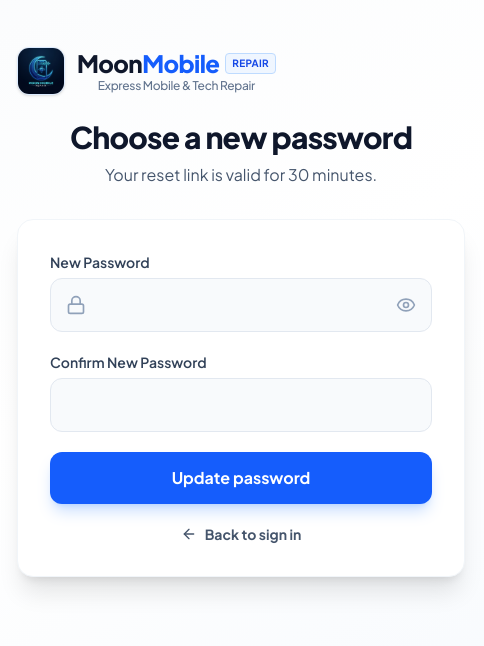
Scenario: ResetPasswordPage › warns when the token is missing
Step 1. Type "StrongPass1" into the password field labelled "New Password" → (241,305), box top-left (50, 278), bottom-right (432, 332)
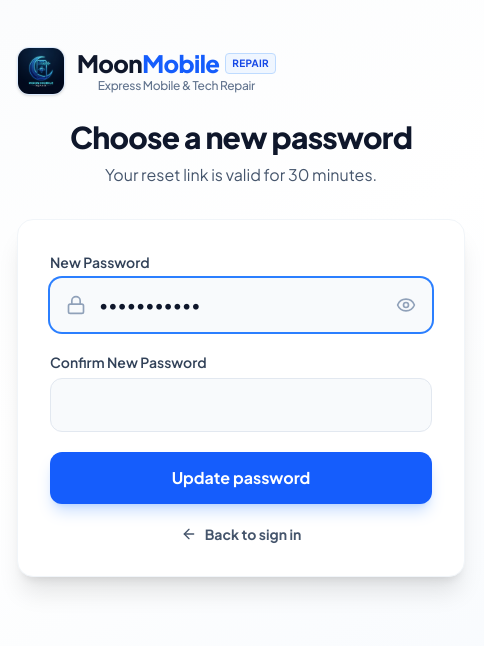
Step 2. Type "StrongPass1" into the password field labelled "Confirm New Password" → (241,405), box top-left (50, 378), bottom-right (432, 432)
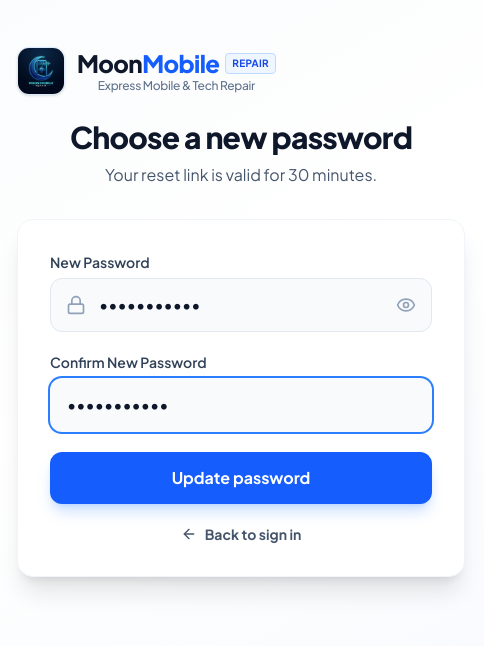
Step 3. Click the button "Update password" → (241,478), box top-left (50, 452), bottom-right (432, 504)
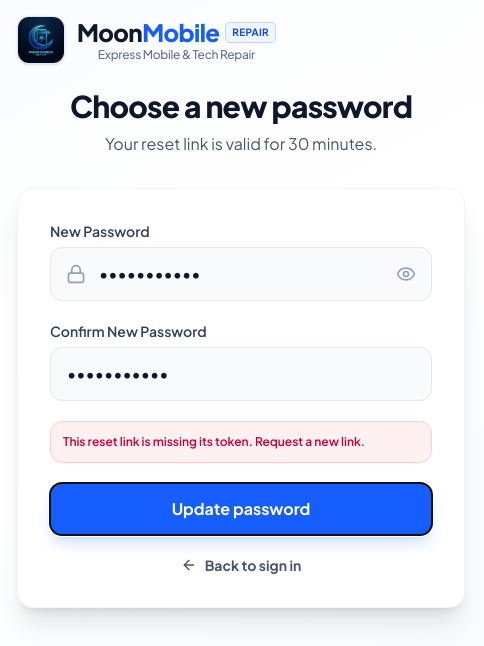
Result: the text "This reset link is missing its token. Request a new link." is shown at top-left (50, 421), bottom-right (432, 463)
